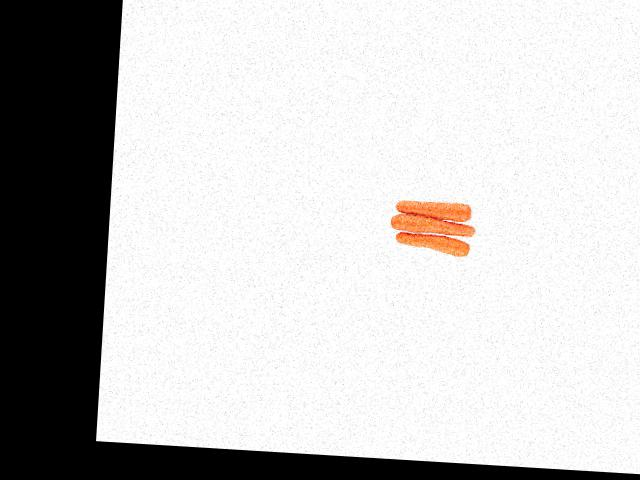carrot: (388, 196, 477, 221)
